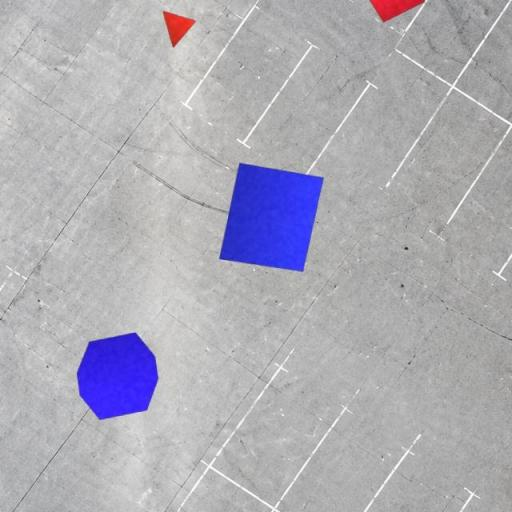BLUE_SQUARE: (218, 162, 324, 272)
RED_SQUARE: (358, 0, 426, 23)
